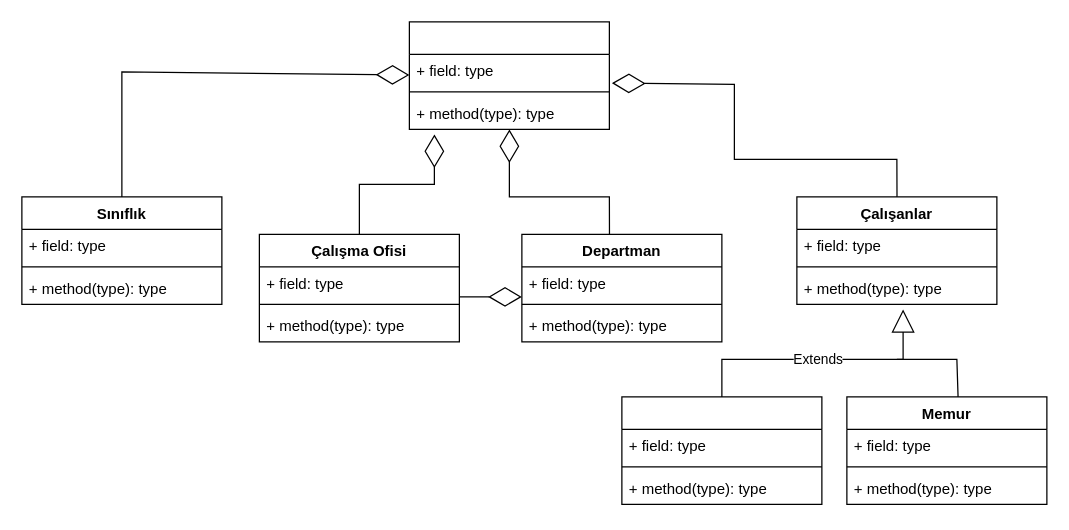
Some shapes in this 1069 by 530 pixel diagram are drawn without their labels. Here are the shapes that lost their labels. From the top down, the box of each, then its label:
(408, 21, 609, 129): Üniversite
(621, 396, 822, 504): Profesor
